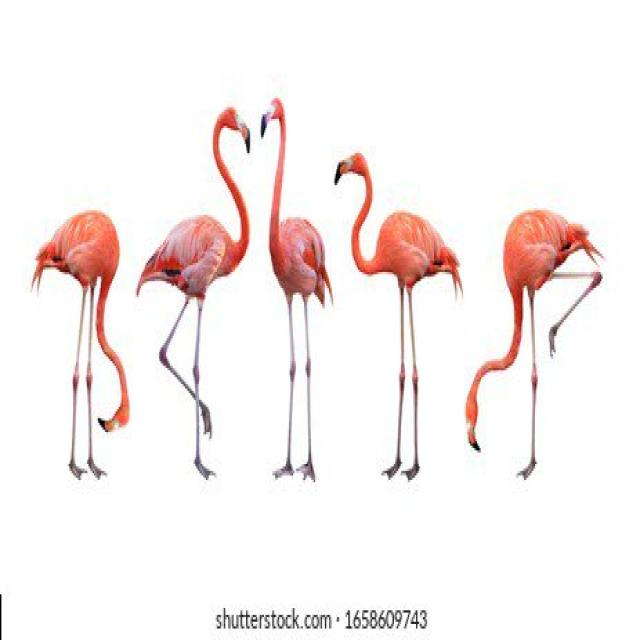Flamingo: (136, 99, 254, 482), (333, 147, 459, 481), (464, 194, 601, 475), (259, 93, 331, 478), (34, 204, 132, 483)
